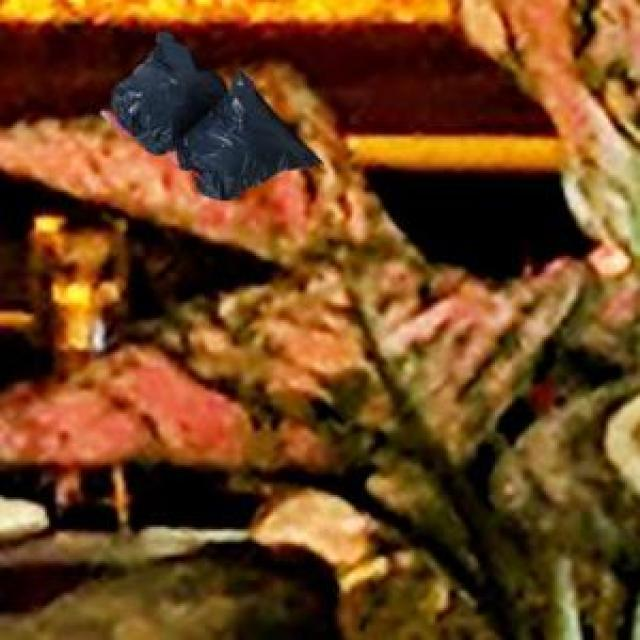miscellaneous trash: (98, 24, 318, 196)
